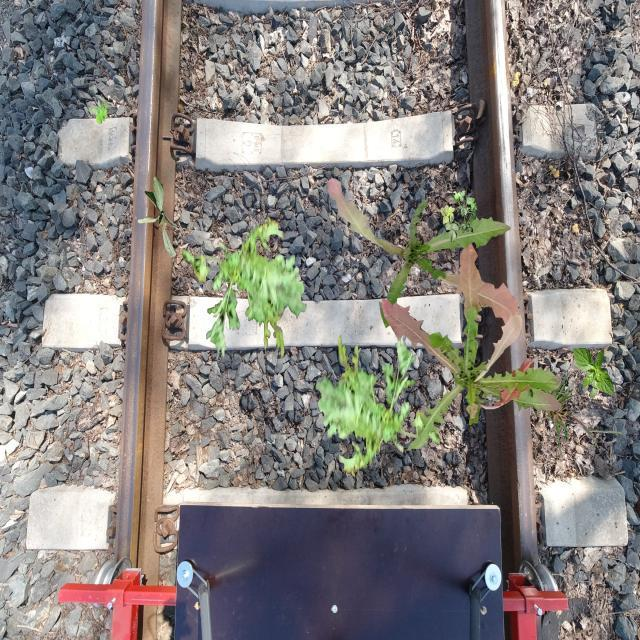Plant: (382, 242, 562, 450), (327, 178, 520, 330), (316, 333, 441, 480), (182, 214, 307, 361), (479, 367, 622, 457), (138, 176, 178, 258), (573, 346, 614, 399), (440, 188, 478, 243), (89, 100, 110, 125)
